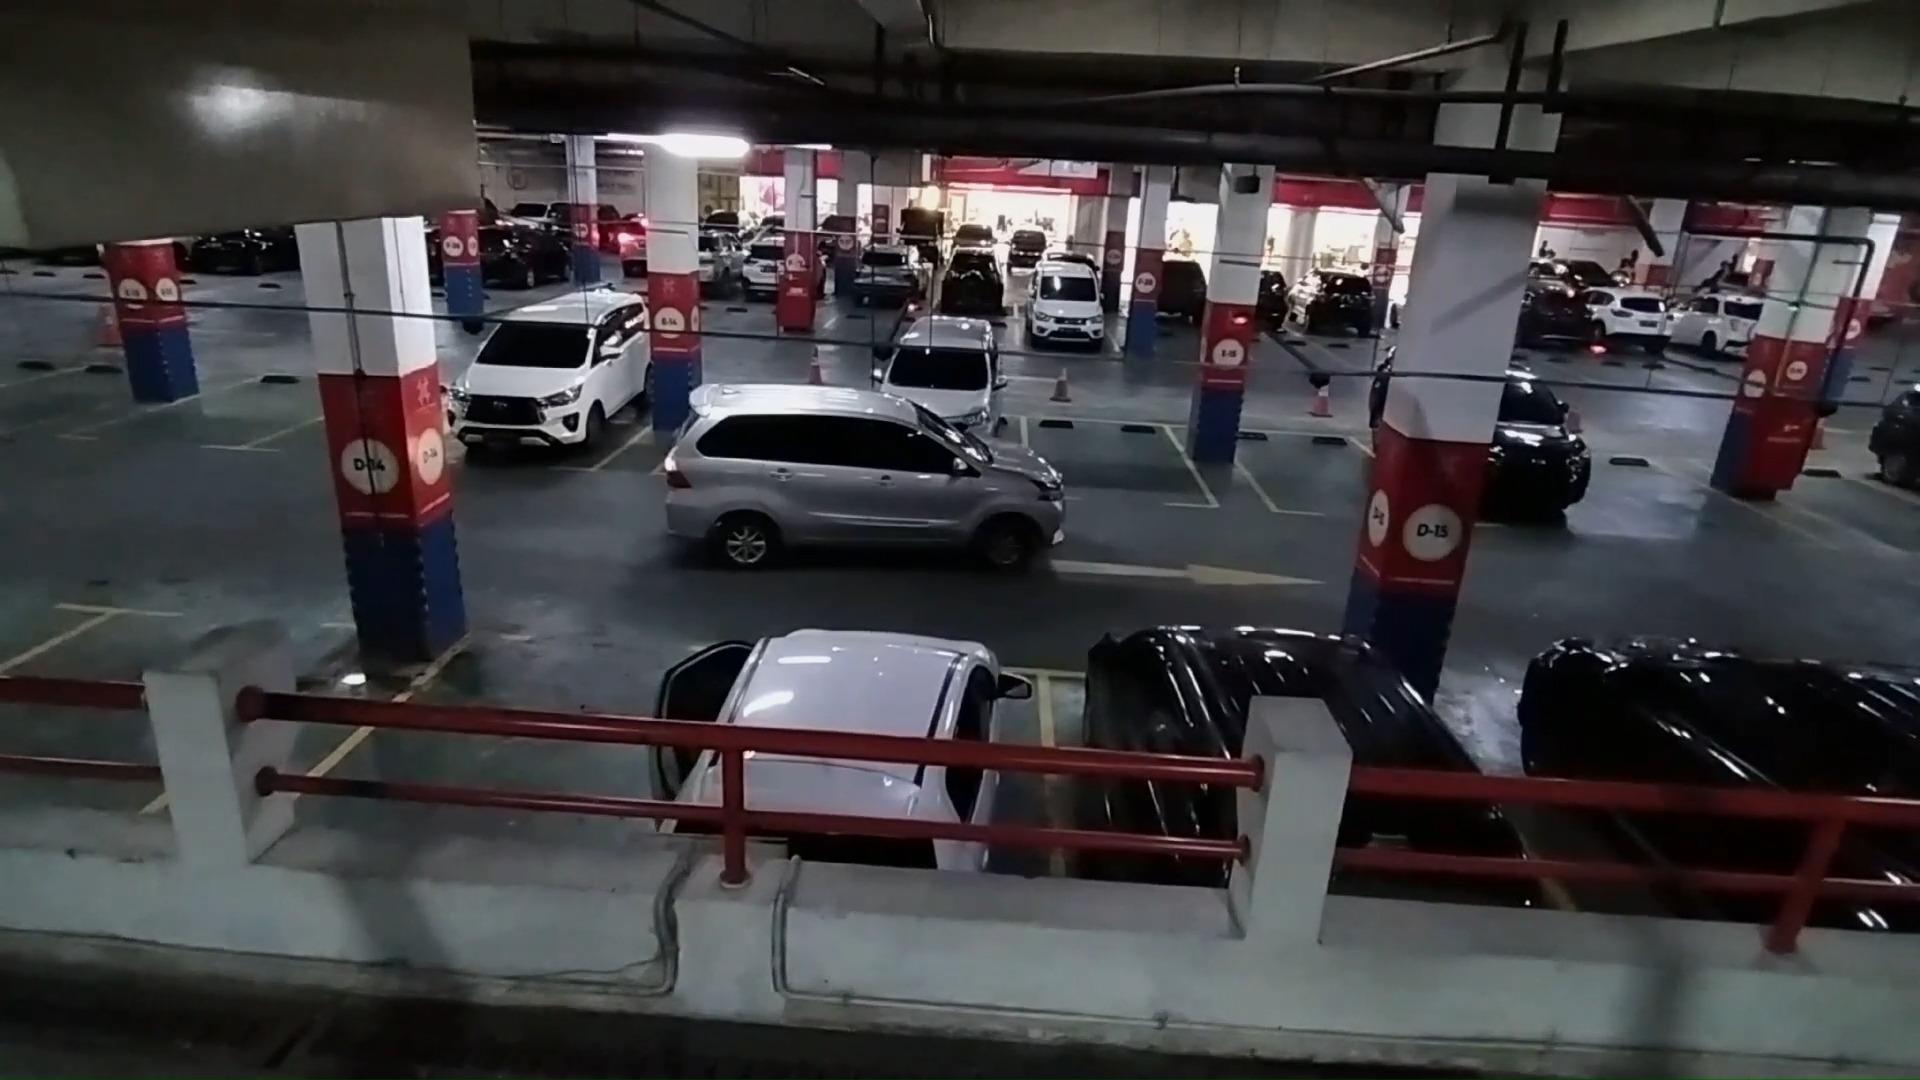empty: (15, 604, 353, 807), (379, 627, 705, 826), (1019, 414, 1220, 510), (1238, 427, 1377, 517)
occupied: (1043, 630, 1491, 878), (676, 638, 1053, 853), (452, 300, 649, 475)
